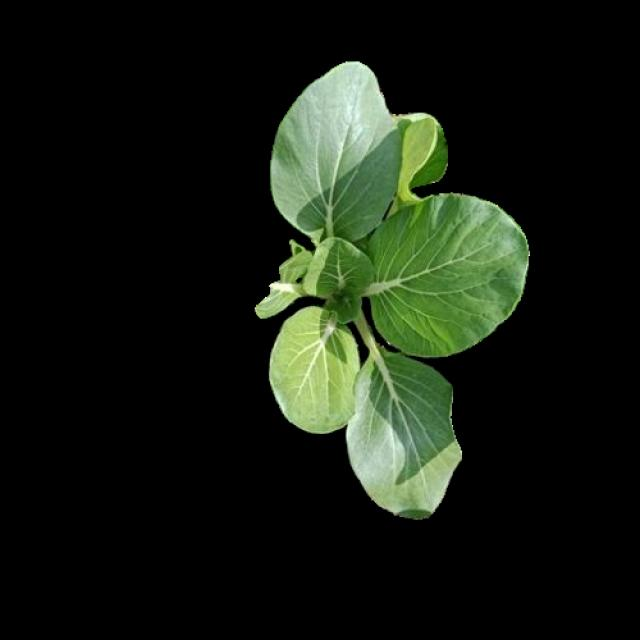healthy: (262, 76, 524, 517)
not-mature: (262, 64, 526, 520)
